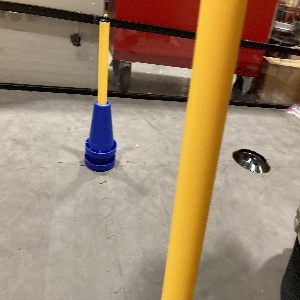Blue_2: (81, 98, 118, 170)
